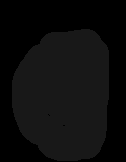fp: (16, 25, 113, 161)
